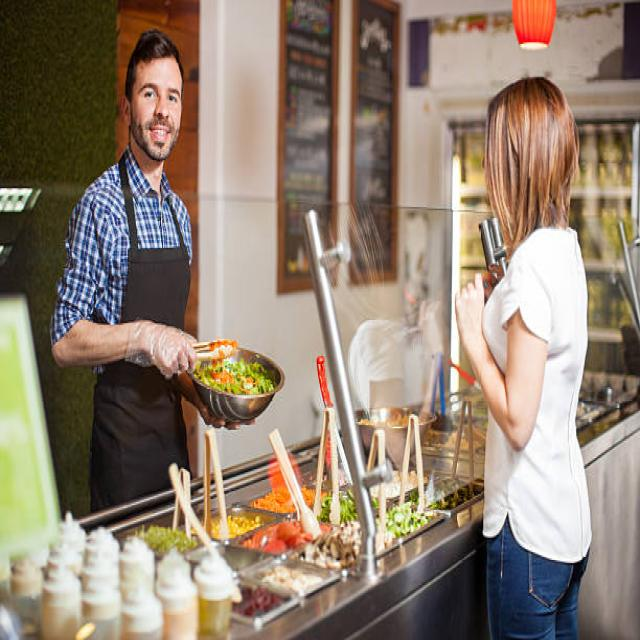Emperan: (12, 267, 640, 640)
